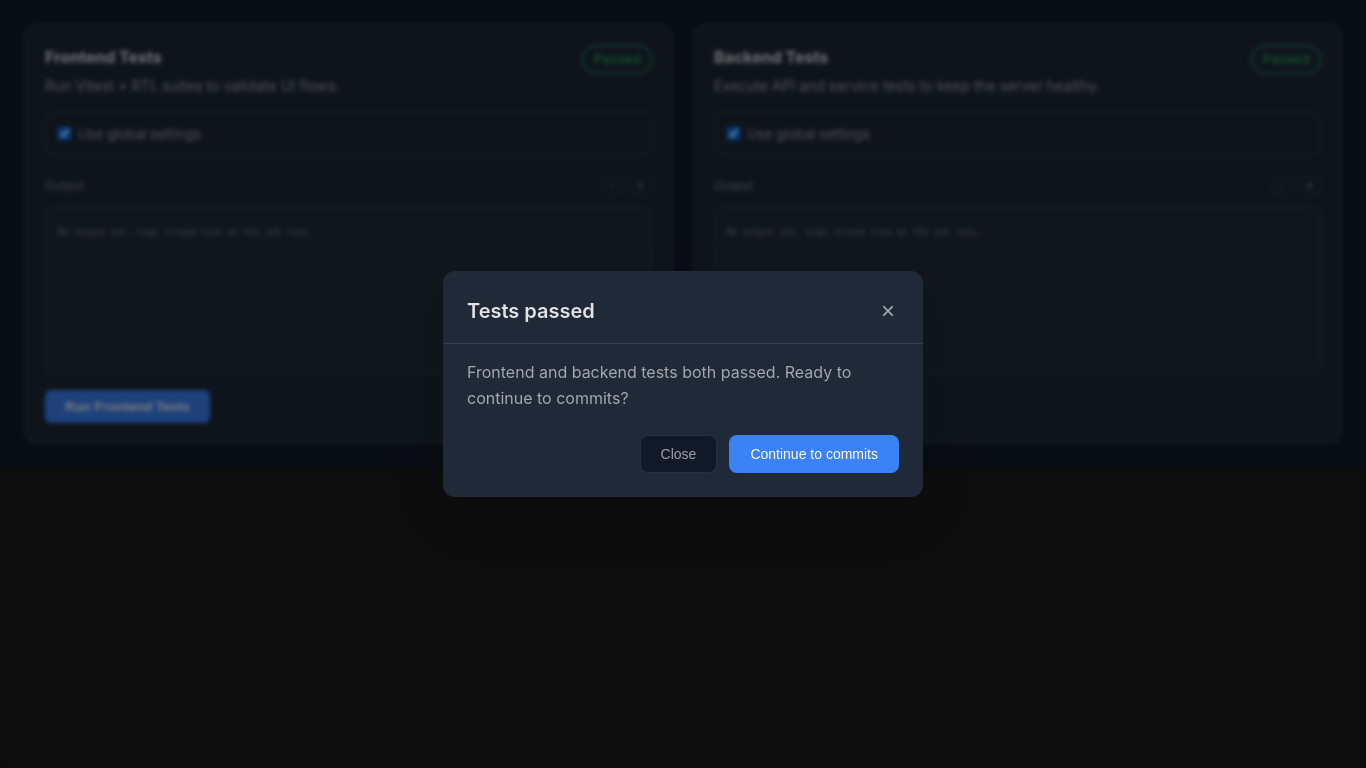
TestTab › surfaces commit-failed modal when continue-to-commits flow throws response payload error
The image size is (1366, 768).
expect the element with test id "modal-content" is shown: met, box [443,271,923,497]
Step 1. Click the button with test id "modal-confirm" → [814, 454], box [729,435,899,473]
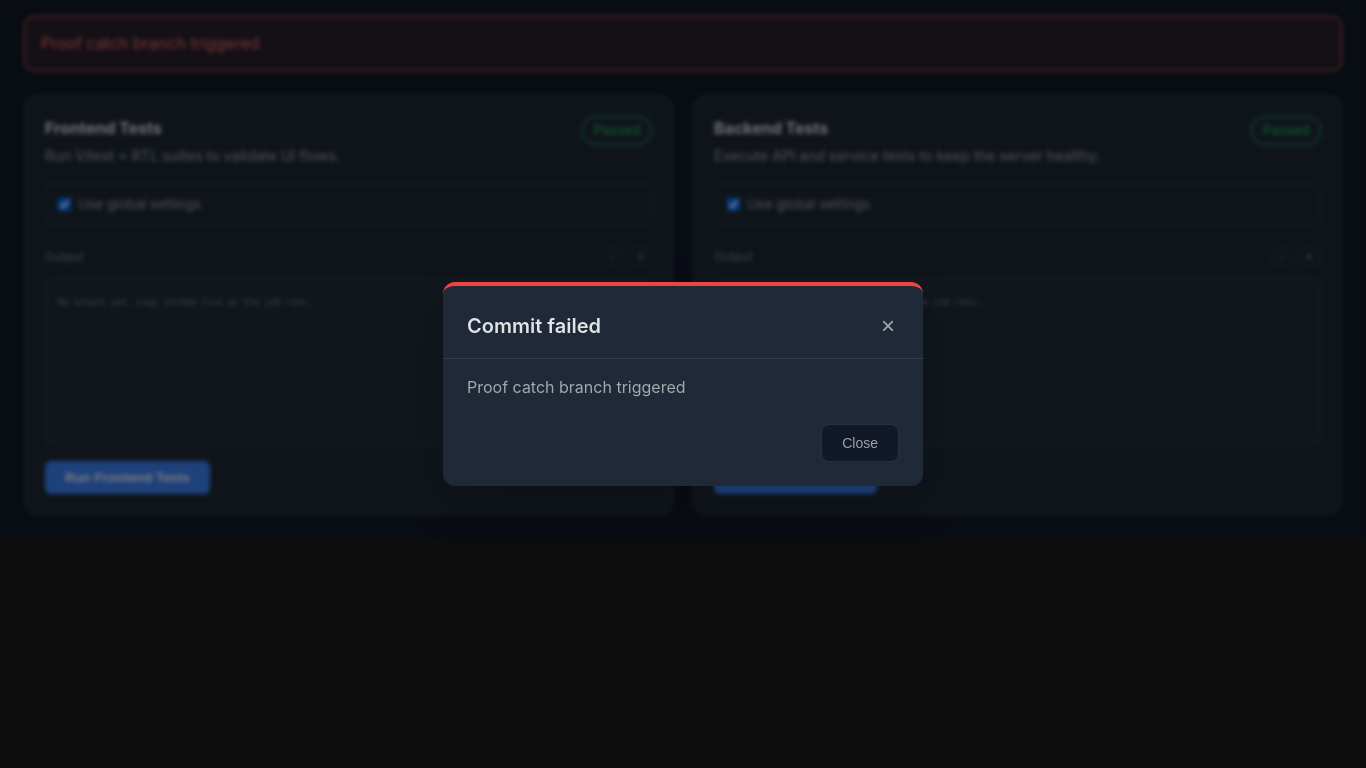
expect the heading "Commit failed" is shown: met, box [467,311,601,341]
expect the text "Proof catch branch triggered" is shown: met, box [467,377,686,397]
